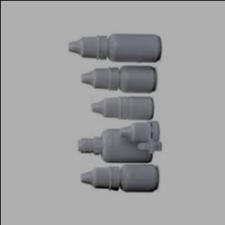Plastic: (65, 31, 163, 62)
